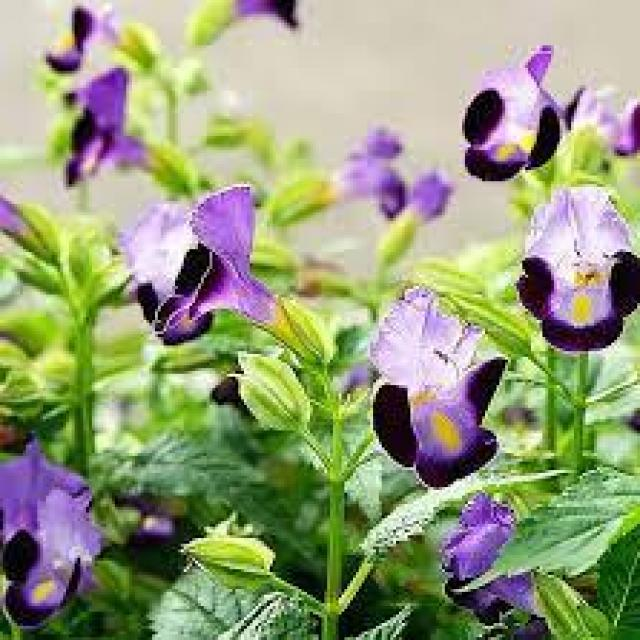organic waste: (119, 186, 334, 378), (344, 282, 520, 477), (420, 489, 547, 630), (6, 453, 109, 626), (529, 184, 633, 354), (451, 38, 568, 186)
